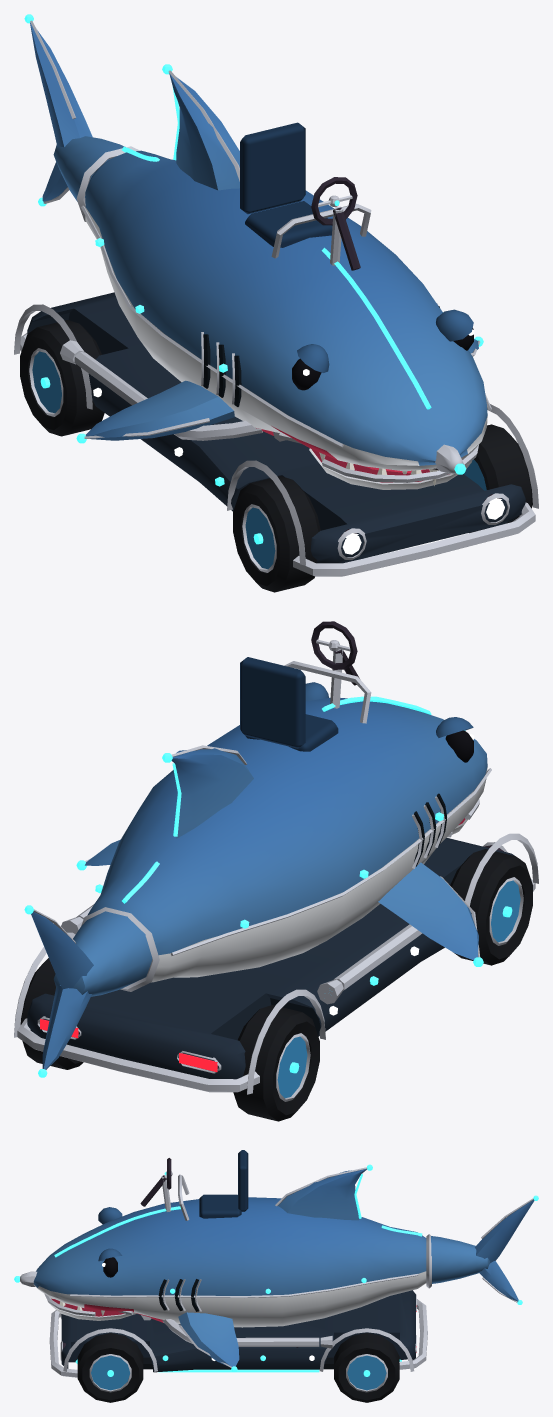
File: dune_chomper_lo.glb
The picture shows the model from 3 angles, top to bottom: view 1: azimuth 30°, elevation 25°; view 2: azimuth 150°, elevation 25°; view 3: azimuth 270°, elevation 25°; orthographic projection. The views are drawn at different scales.
Visible parts, largest first — view 1: hull, chassis, wheel_FR_tyre, seat_back, wheel_RR_tyre, pecR, dorsal, bumper_1, wheel_FL_tyre, tail_upper, pipe_0, seat_cushion (+13 smaller); view 2: hull, chassis, wheel_RR_tyre, seat_back, pecR, tail_stock, wheel_FR_tyre, dorsal, bumper_0, tail_upper, tail_lower, pipe_0 (+12 smaller); view 3: hull, chassis, dorsal, wheel_FL_tyre, wheel_RL_tyre, pecL, tail_stock, tail_upper, pipe_1, wheel_FL_dish, wheel_RL_dish, seat_cushion (+11 smaller).
Boxes of the visible parts, x1,y1,x2,y2 form: hull: [85, 150, 487, 471]; chassis: [27, 292, 525, 563]; wheel_FR_tyre: [233, 476, 320, 592]; seat_back: [240, 122, 305, 214]; wheel_RR_tyre: [20, 320, 104, 436]; pecR: [86, 380, 235, 440]; dorsal: [169, 73, 239, 190]; bumper_1: [293, 502, 535, 576]; wheel_FL_tyre: [469, 424, 532, 532]; tail_upper: [30, 22, 92, 147]; pipe_0: [74, 352, 262, 440]; seat_cushion: [245, 201, 332, 247]; hull: [87, 697, 487, 982]; chassis: [27, 837, 520, 1079]; wheel_RR_tyre: [233, 1005, 319, 1121]; seat_back: [240, 657, 305, 748]; pecR: [378, 862, 478, 960]; tail_stock: [53, 911, 152, 996]; wheel_FR_tyre: [450, 849, 532, 965]; dorsal: [171, 748, 253, 838]; bumper_0: [17, 1018, 259, 1092]; tail_upper: [31, 912, 93, 989]; tail_lower: [42, 985, 91, 1069]; pipe_0: [333, 924, 422, 991]; hull: [33, 1197, 426, 1327]; chassis: [61, 1290, 415, 1372]; dorsal: [278, 1169, 366, 1220]; wheel_FL_tyre: [77, 1333, 143, 1402]; wheel_RL_tyre: [334, 1333, 399, 1402]; pecL: [178, 1312, 239, 1366]; tail_stock: [431, 1236, 490, 1283]; tail_upper: [475, 1200, 534, 1262]; pipe_1: [162, 1319, 319, 1346]; wheel_FL_dish: [91, 1355, 129, 1390]; wheel_RL_dish: [347, 1355, 386, 1390]; seat_cushion: [199, 1194, 241, 1218].
Size of the model in its own units: 3.84 by 3.16 by 7.17.
